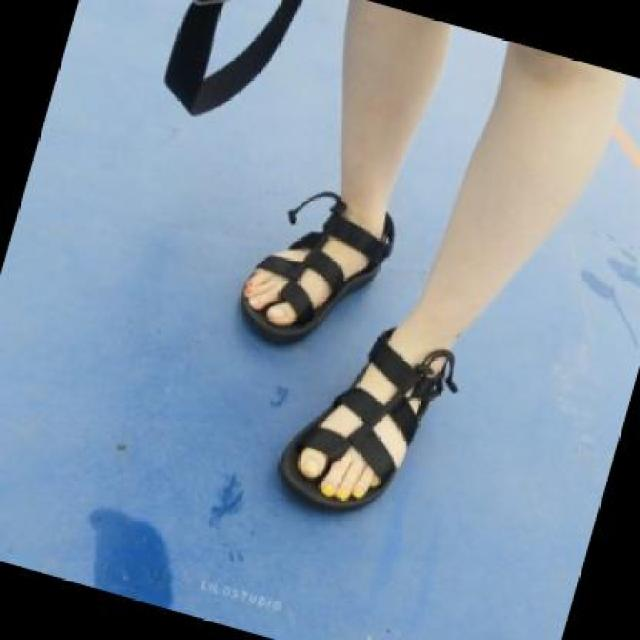Sandals: (278, 323, 460, 514), (238, 177, 396, 344)
